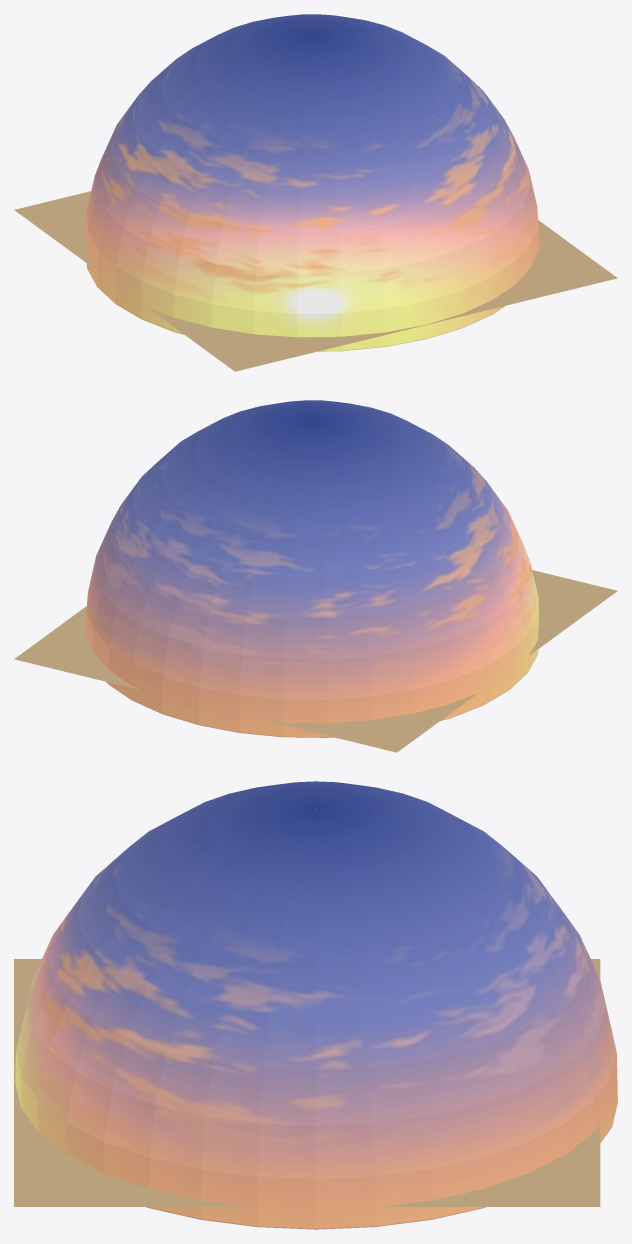
File: lugar-gizeh-ciudad.glb
The picture shows the model from 3 angles, top to bottom: view 1: azimuth 30°, elevation 25°; view 2: azimuth 150°, elevation 25°; view 3: azimuth 270°, elevation 25°; orthographic projection. The views are drawn at different scales.
Parts seen in each view (by area): view 1: planoC; view 2: planoC; view 3: planoC.
Boxes of the visible parts, <box> form: planoC: <box>14,14,617,371</box>; planoC: <box>14,400,617,752</box>; planoC: <box>14,781,617,1229</box>.
Size of the model in its own units: 6584 by 3530 by 6592.
13 materials, 11 textured.
